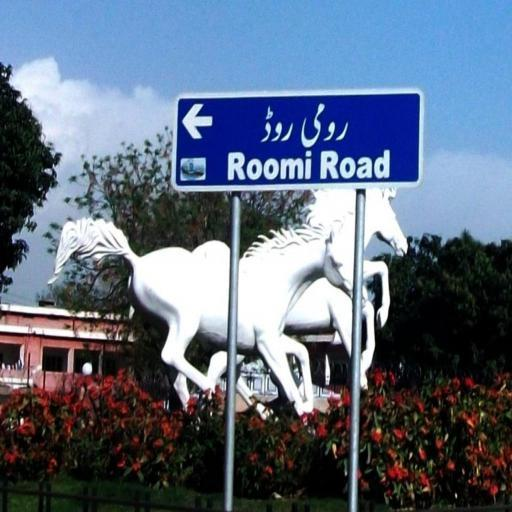horse: (47, 220, 369, 418), (205, 207, 376, 421), (300, 186, 408, 370)
